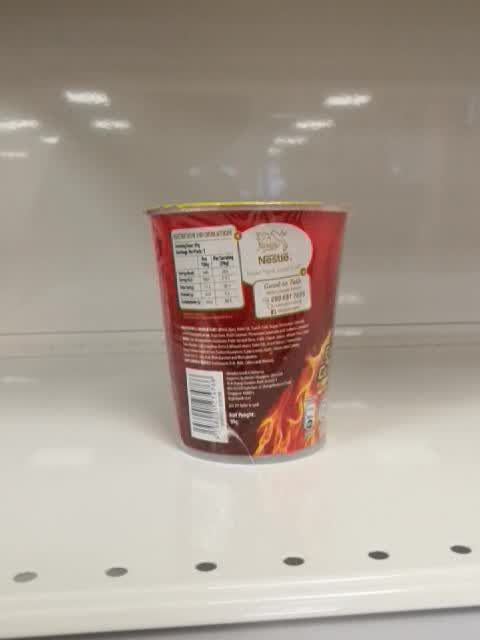maggi: (144, 200, 353, 465)
